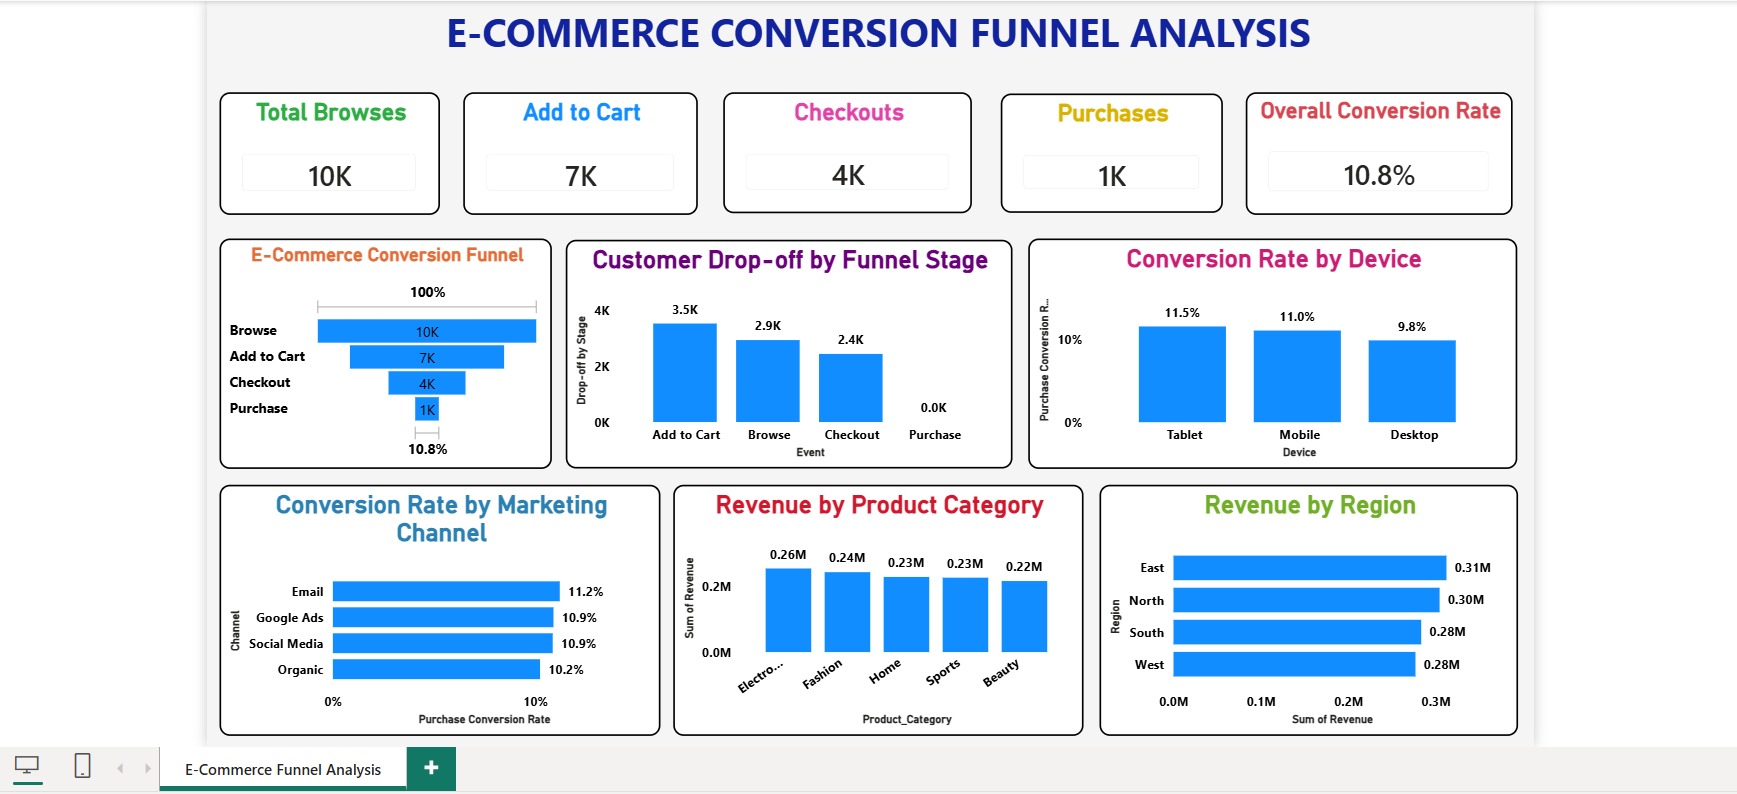

The page's visual inventory and layout, read from the dashboard file:
{"tool":"powerbi","page":{"name":"E-Commerce Funnel Analysis","canvas":[1280,720],"ordinal":0},"visuals":[{"type":"funnel","title":"E-Commerce Conversion Funnel","fields":{"Category":["funnel_analysis_dataset.Event"],"Y":["funnel_analysis_dataset.Funnel Sessions"]},"box":[12.3,229.2,321.1,222.3],"z":0},{"type":"textbox","box":[142.7,0,1011.3,65.9],"z":1000},{"type":"cardVisual","title":"Total Browses","fields":{"Data":["funnel_analysis_dataset.Total Browses"]},"box":[12.3,87.8,212.7,118],"z":2000},{"type":"cardVisual","title":"Add to Cart","fields":{"Data":["funnel_analysis_dataset.Total Add to Cart"]},"box":[247,87.8,226.4,118],"z":3000},{"type":"cardVisual","title":"Checkouts","fields":{"Data":["funnel_analysis_dataset.Total Checkouts"]},"box":[498.1,87.8,240.1,116.6],"z":4000},{"type":"cardVisual","title":"Purchases","fields":{"Data":["funnel_analysis_dataset.Total Purchases"]},"box":[765.7,89.2,214.1,115.3],"z":5000},{"type":"cardVisual","title":"Overall Conversion Rate","fields":{"Data":["funnel_analysis_dataset.Overall Conversion Rate"]},"box":[1002.6,88.1,263,118.2],"z":6000},{"type":"clusteredColumnChart","title":"Customer Drop-off by Funnel Stage","fields":{"Category":["funnel_analysis_dataset.Event"],"Y":["funnel_analysis_dataset.Drop-off by Stage"]},"box":[345.8,230.5,430.9,220.9],"z":7000},{"type":"clusteredColumnChart","title":"Conversion Rate by Device","fields":{"Category":["funnel_analysis_dataset.Device"],"Y":["funnel_analysis_dataset.Purchase Conversion Rate"]},"box":[793.1,229.2,472,222.3],"z":8000},{"type":"clusteredBarChart","title":"Conversion Rate by Marketing Channel","fields":{"Category":["funnel_analysis_dataset.Channel"],"Y":["funnel_analysis_dataset.Purchase Conversion Rate"]},"box":[12.1,466.9,425.9,242.5],"z":9000},{"type":"clusteredColumnChart","title":"Revenue by Product Category","fields":{"Category":["funnel_analysis_dataset.Product_Category"],"Y":["Sum(funnel_analysis_dataset.Revenue)"]},"box":[450,466.9,395.7,242.5],"z":10000},{"type":"clusteredBarChart","title":"Revenue by Region","fields":{"Category":["funnel_analysis_dataset.Region"],"Y":["Sum(funnel_analysis_dataset.Revenue)"]},"box":[861.4,466.9,404.2,242.5],"z":11000}]}

Visuals, with their boxes on the page's 1280x720 design canvas (x1, y1, x2, y2). These are canvas units, not pixel positions in the 1737x794 screenshot, which may show the page scaled, cropped or inside an application window:
"E-Commerce Conversion Funnel" funnel: Rect(12, 229, 333, 452)
textbox: Rect(143, 0, 1154, 66)
"Total Browses" cardVisual: Rect(12, 88, 225, 206)
"Add to Cart" cardVisual: Rect(247, 88, 473, 206)
"Checkouts" cardVisual: Rect(498, 88, 738, 204)
"Purchases" cardVisual: Rect(766, 89, 980, 204)
"Overall Conversion Rate" cardVisual: Rect(1003, 88, 1266, 206)
"Customer Drop-off by Funnel Stage" clusteredColumnChart: Rect(346, 230, 777, 451)
"Conversion Rate by Device" clusteredColumnChart: Rect(793, 229, 1265, 452)
"Conversion Rate by Marketing Channel" clusteredBarChart: Rect(12, 467, 438, 709)
"Revenue by Product Category" clusteredColumnChart: Rect(450, 467, 846, 709)
"Revenue by Region" clusteredBarChart: Rect(861, 467, 1266, 709)
